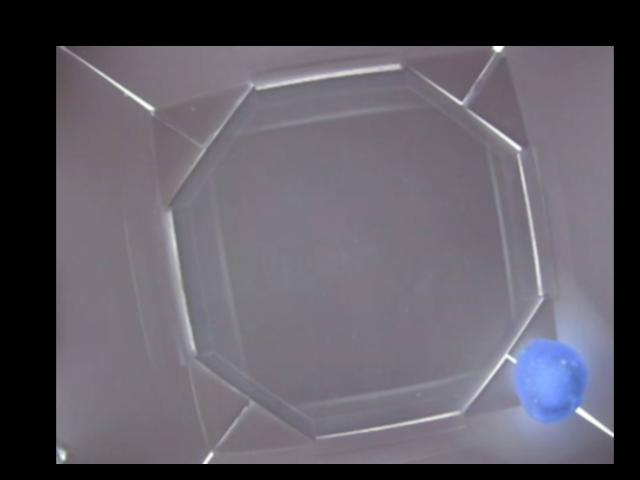Potato: (510, 337, 589, 424)
